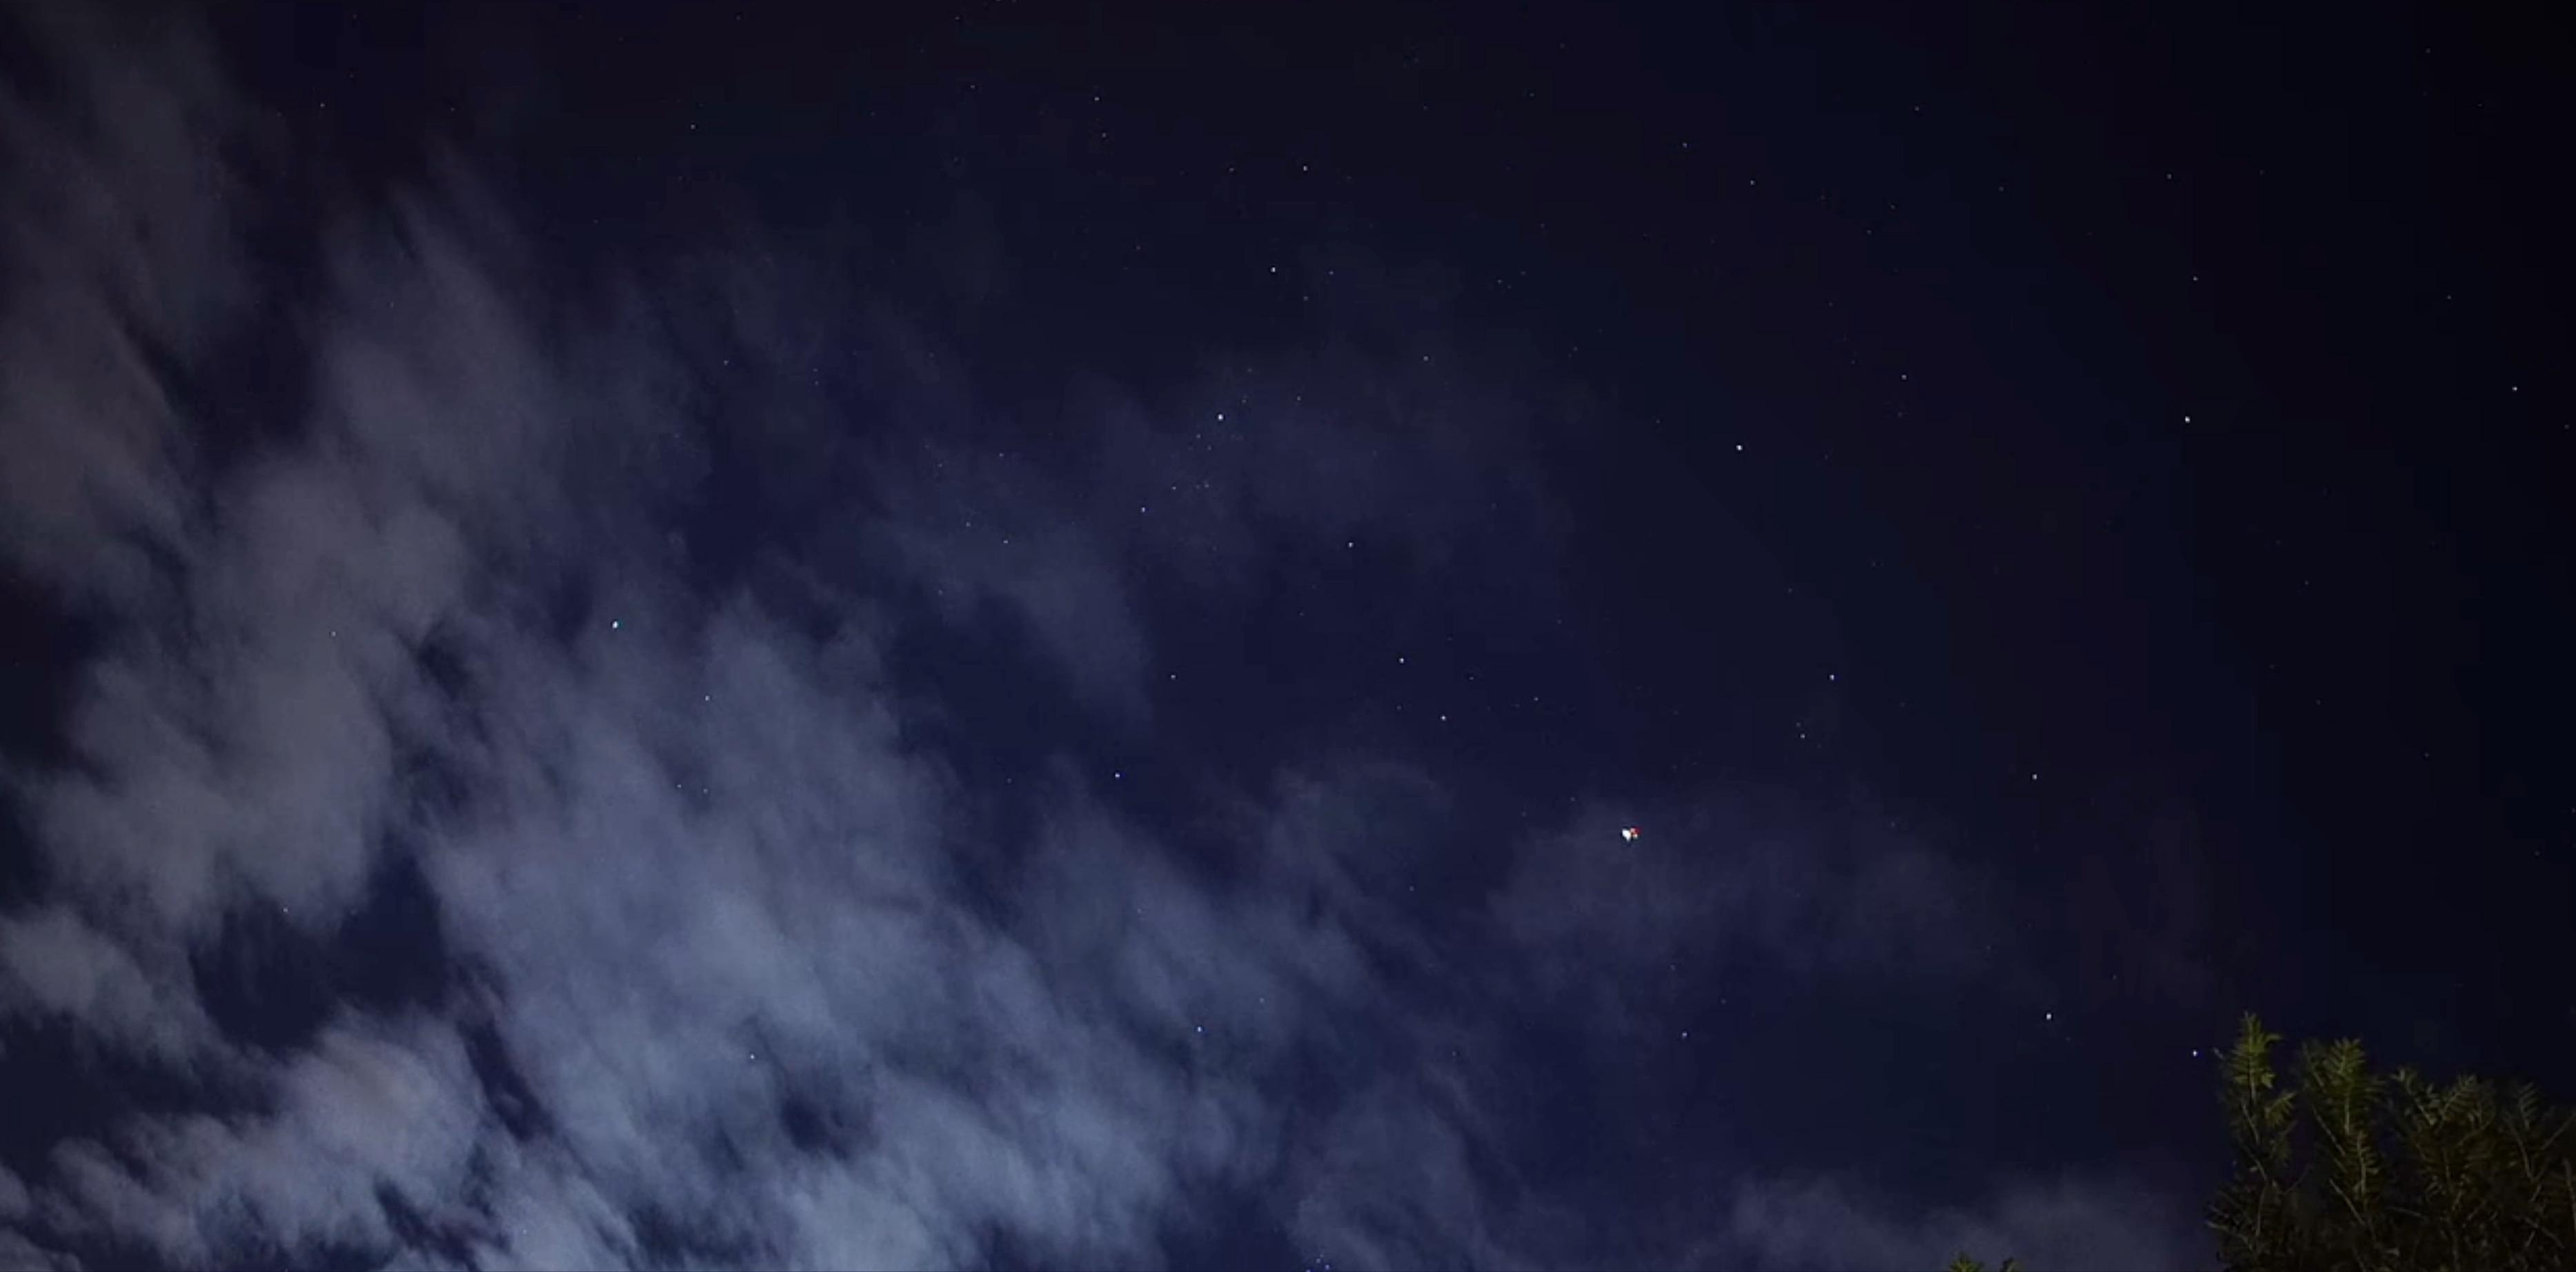Plane: (1594, 812, 1667, 855)
